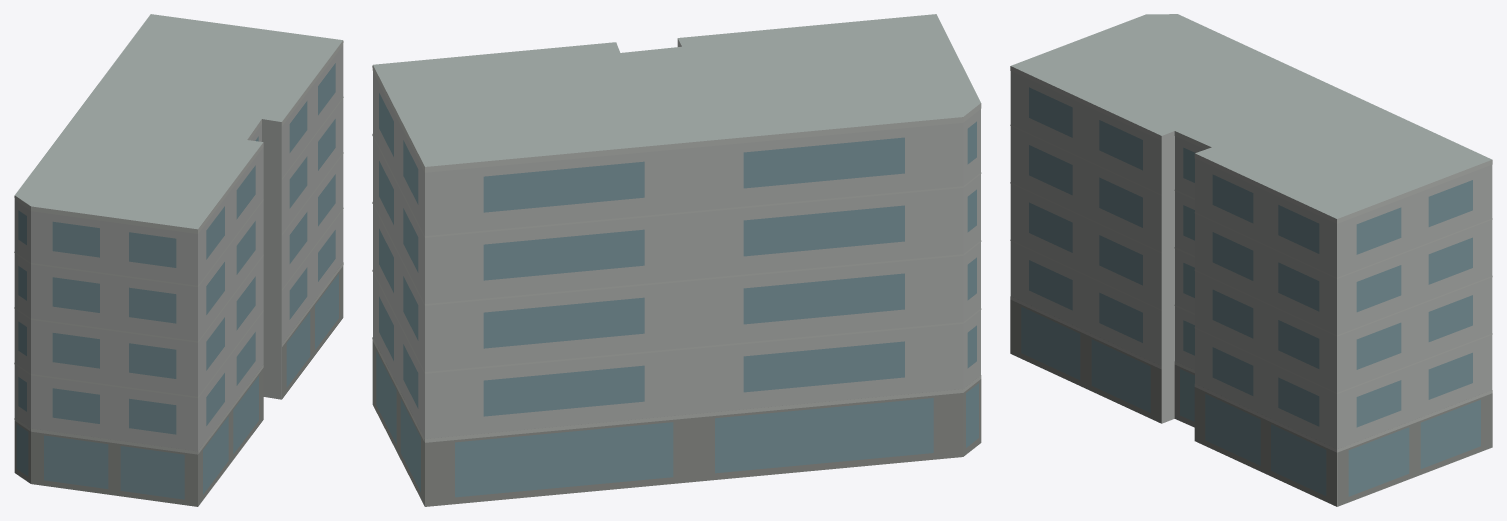
The model's file is survey-upis-32973563.glb.
The picture shows the model from 3 angles, left to right: view 1: azimuth 30°, elevation 25°; view 2: azimuth 150°, elevation 25°; view 3: azimuth 270°, elevation 25°; orthographic projection. The views are drawn at different scales.
Parts seen in each view (by area): view 1: survey-upis-32973563.tmp; view 2: survey-upis-32973563.tmp; view 3: survey-upis-32973563.tmp.
Boxes of the visible parts, left/top/right/bottom form: survey-upis-32973563.tmp: left=14, top=14, right=343, bottom=506; survey-upis-32973563.tmp: left=372, top=14, right=981, bottom=506; survey-upis-32973563.tmp: left=1010, top=14, right=1492, bottom=506.
Bounding box in the file's own units: 21.88 × 14.3 × 21.72.
